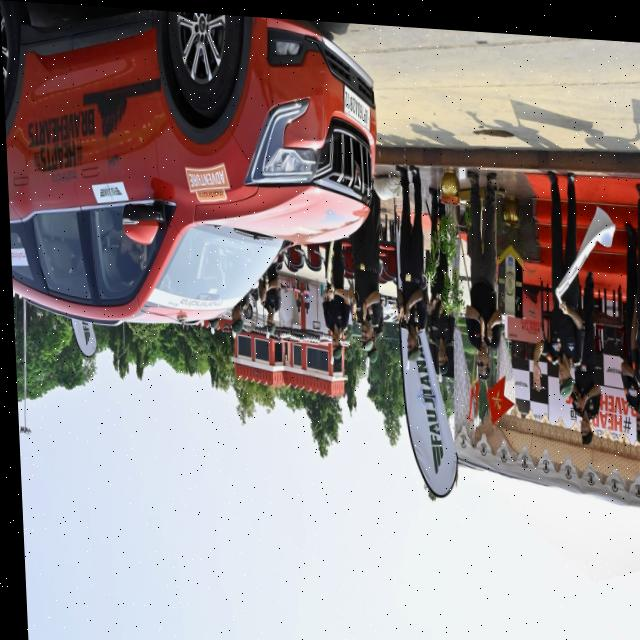plate: (342, 80, 371, 127)
